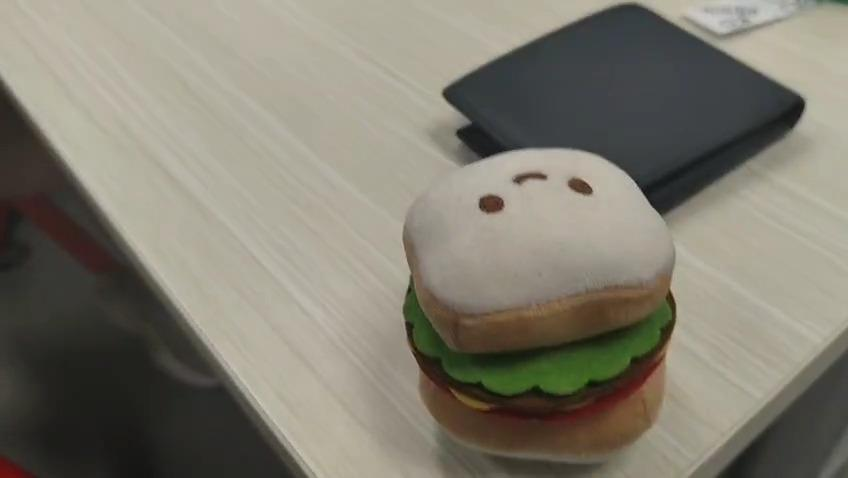objects: (402, 146, 676, 464)
